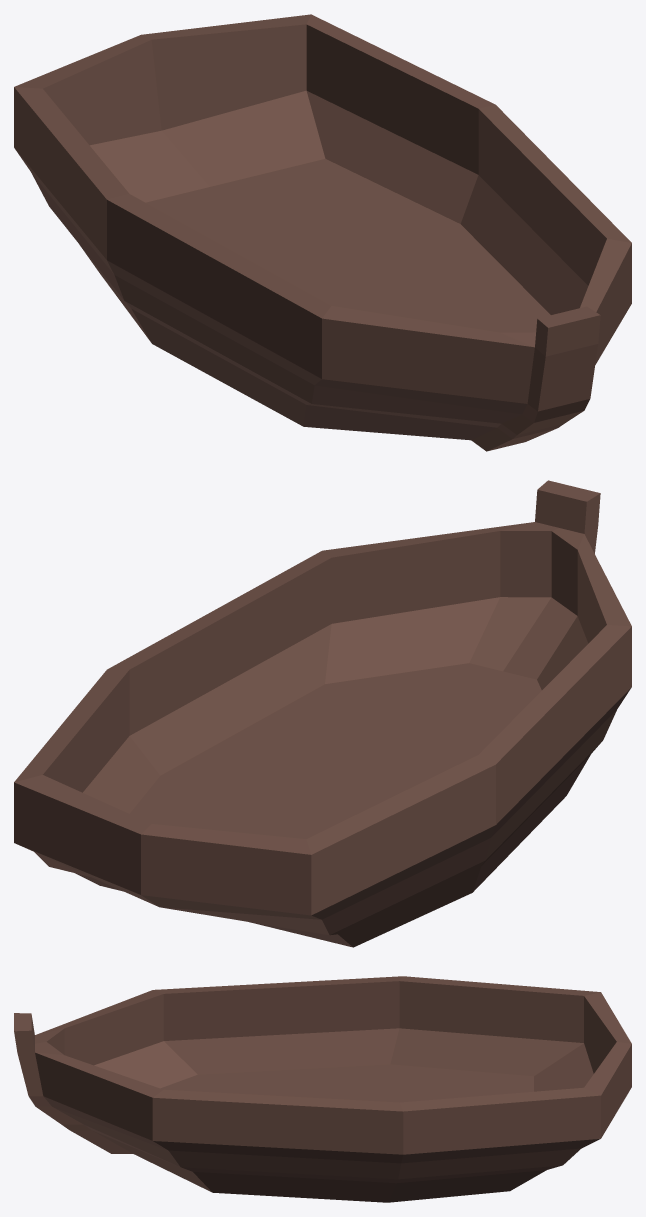
The model's file is quaternius-cute-fish-boat.glb.
3 renders of one model, top to bottom at view 1: azimuth 30°, elevation 25°; view 2: azimuth 150°, elevation 25°; view 3: azimuth 270°, elevation 25°, orthographic. The views are drawn at different scales.
Parts seen in each view (by area): view 1: Boat; view 2: Boat; view 3: Boat.
Boxes of the visible parts, box(x1,y1,x2,y2) form: Boat: box(14, 14, 631, 451); Boat: box(14, 480, 631, 947); Boat: box(14, 976, 631, 1202).
Bounding box in the file's own units: 4.67 × 2.01 × 9.01.
